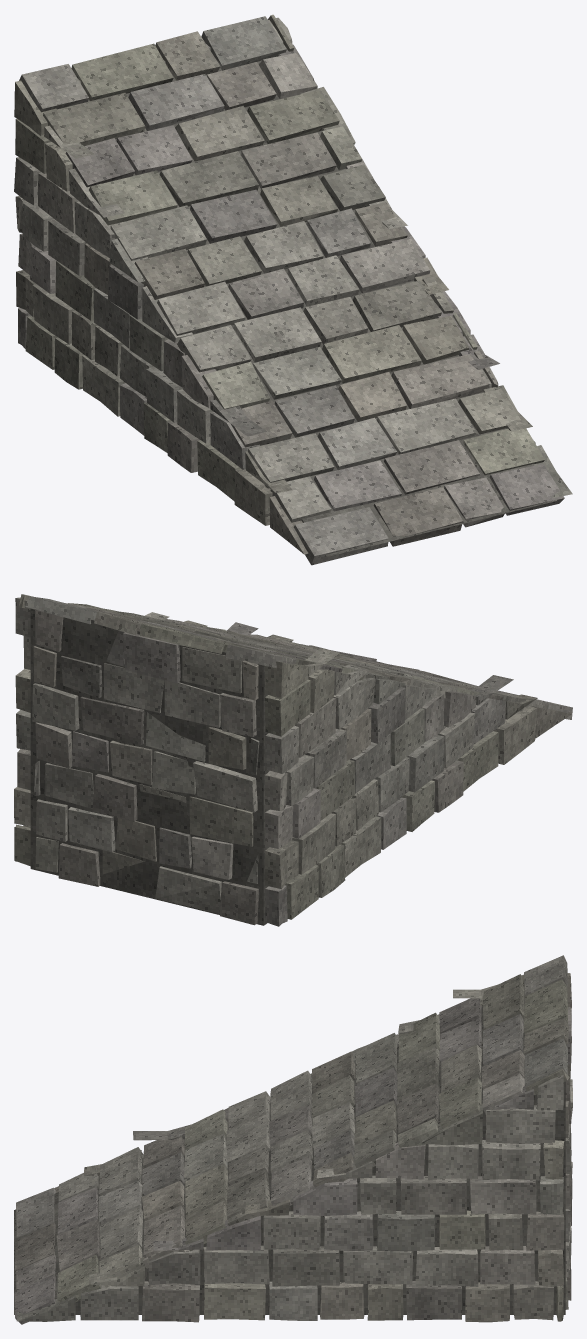
The model's file is rampa_pedra_m.glb.
The picture shows the model from 3 angles, top to bottom: view 1: azimuth 30°, elevation 25°; view 2: azimuth 150°, elevation 25°; view 3: azimuth 270°, elevation 25°; orthographic projection. The views are drawn at different scales.
Visible parts, largest first — view 1: rampa_pedra_m_pedra; view 2: rampa_pedra_m_pedra; view 3: rampa_pedra_m_pedra.
Boxes of the visible parts, left/top/right/bottom form: rampa_pedra_m_pedra: left=14, top=14, right=572, bottom=565; rampa_pedra_m_pedra: left=14, top=594, right=572, bottom=926; rampa_pedra_m_pedra: left=14, top=955, right=572, bottom=1324.
Bounding box in the file's own units: 3.14 × 3.12 × 6.08.
1 material, 1 textured.
